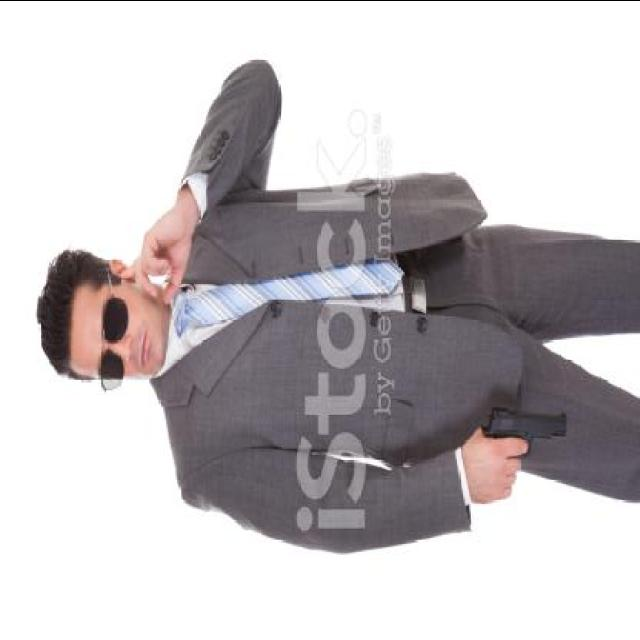pistol: (480, 408, 570, 463)
